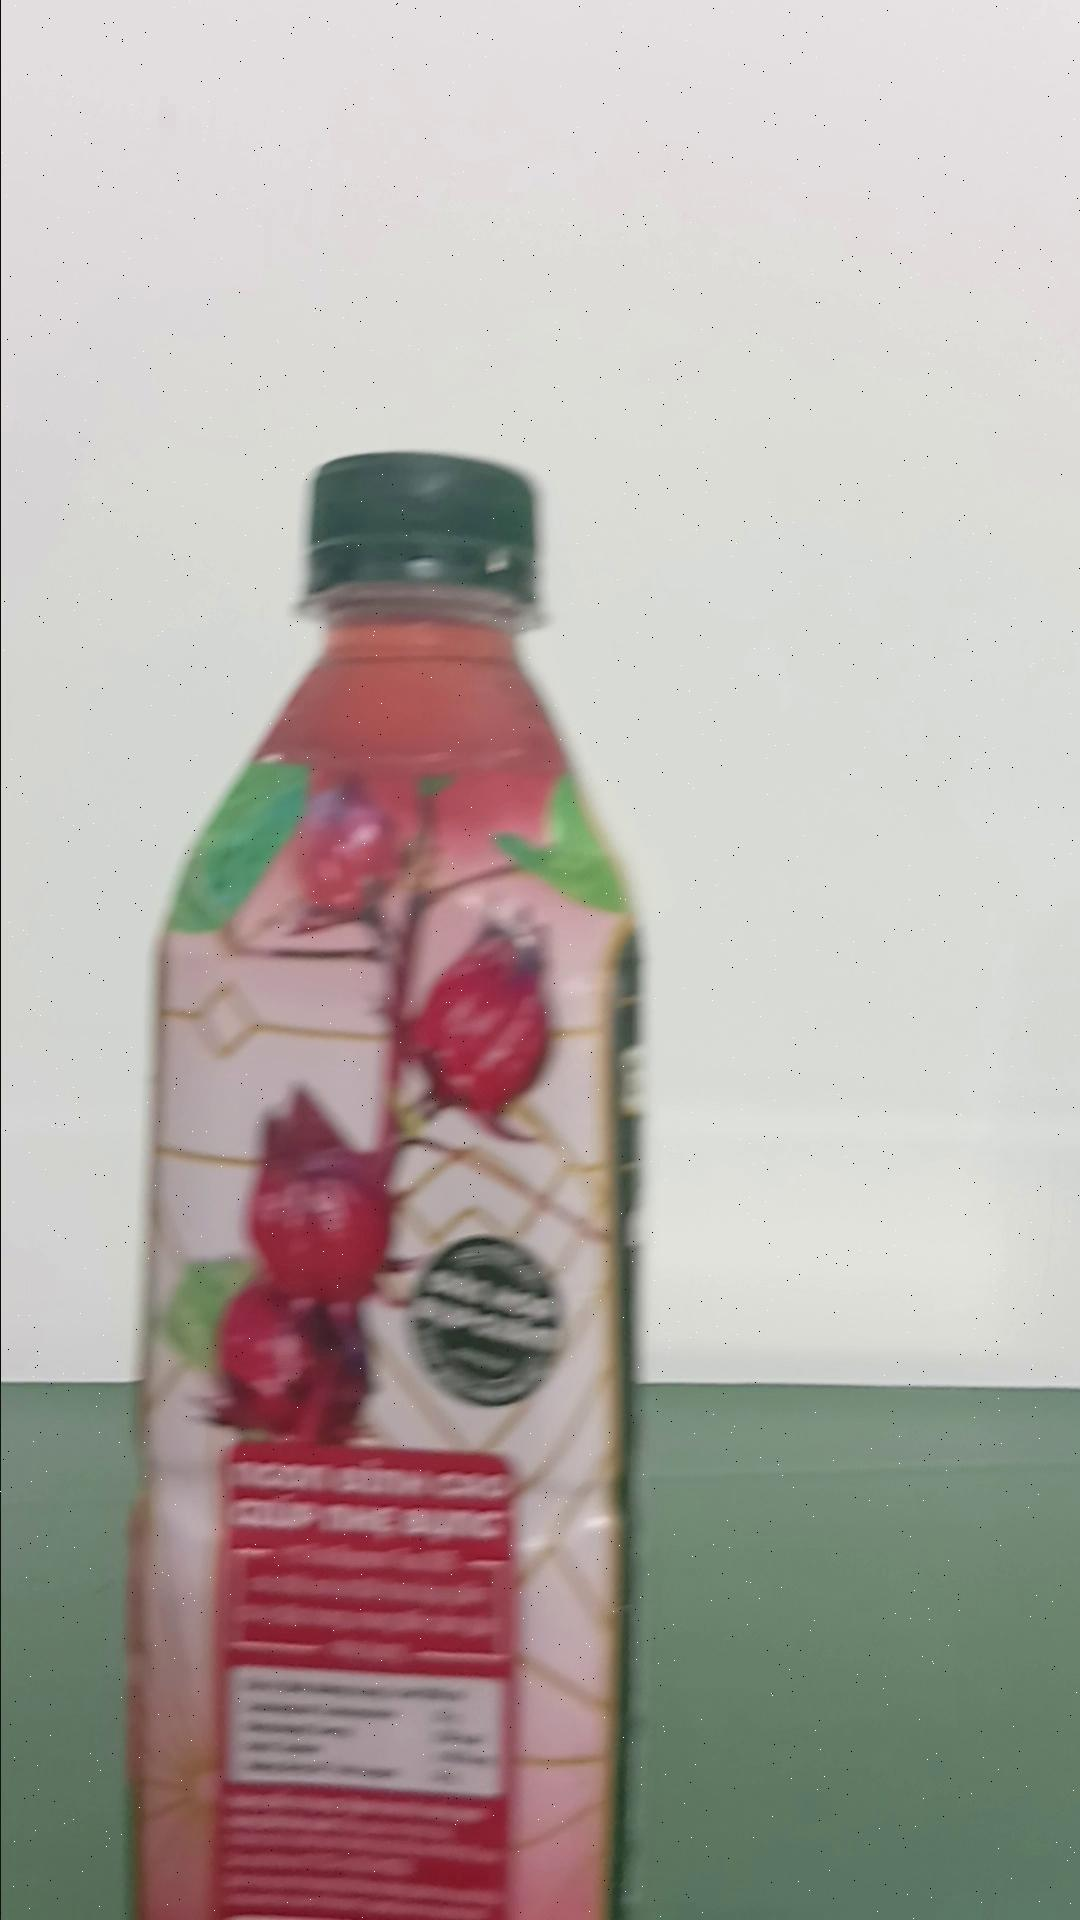khong loi: (127, 447, 647, 1915)
